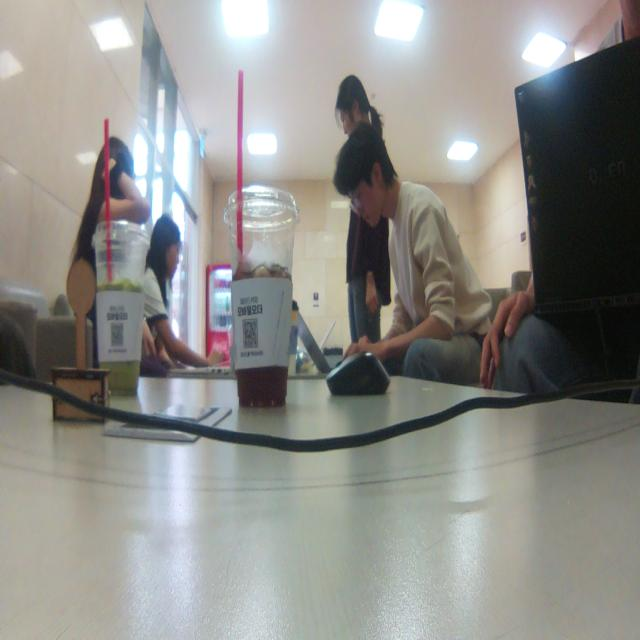target: (51, 253, 111, 423)
